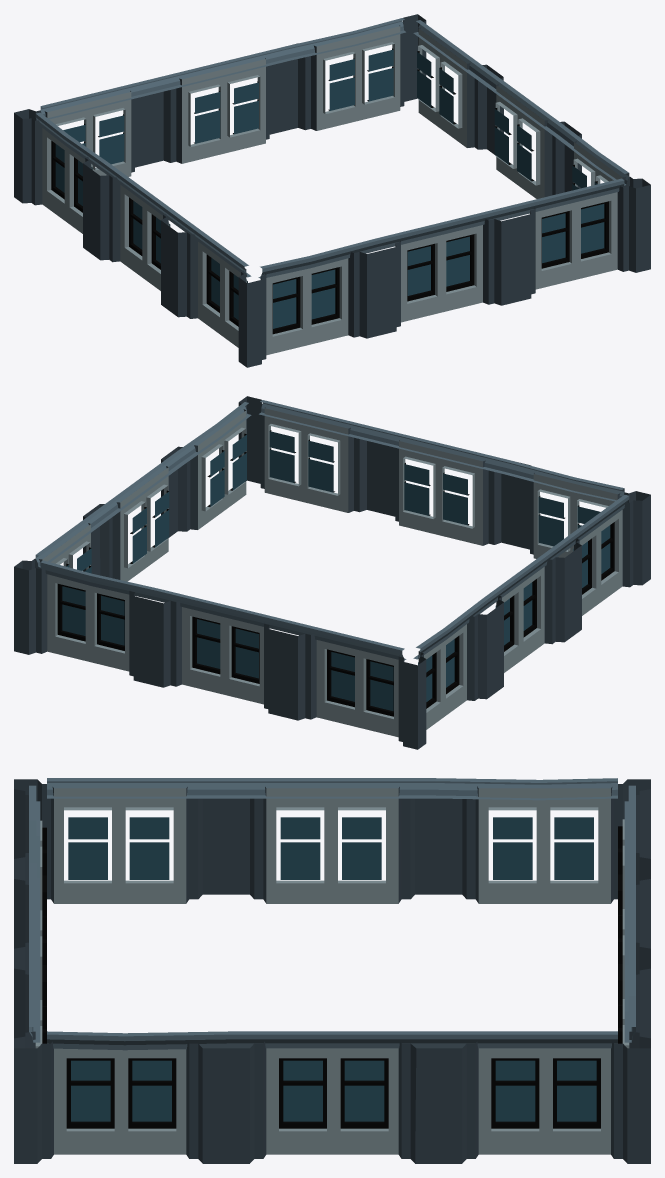
The model's file is Apt1_Floor.fbx.
The picture shows the model from 3 angles, top to bottom: view 1: azimuth 30°, elevation 25°; view 2: azimuth 150°, elevation 25°; view 3: azimuth 270°, elevation 25°; orthographic projection. The views are drawn at different scales.
Parts seen in each view (by area): view 1: Columns.001, Floor Main, Window, Border; view 2: Columns.001, Floor Main, Window, Border; view 3: Columns.001, Floor Main, Window, Border.
Part boxes in pixels (<box>): Columns.001: <box>14,14,650,367</box>; Floor Main: <box>42,26,622,355</box>; Window: <box>51,48,608,334</box>; Border: <box>35,18,629,278</box>; Columns.001: <box>14,396,650,749</box>; Floor Main: <box>42,408,622,737</box>; Window: <box>57,430,614,716</box>; Border: <box>35,400,629,660</box>; Columns.001: <box>14,779,650,1163</box>; Floor Main: <box>35,788,629,1154</box>; Window: <box>42,817,622,1128</box>; Border: <box>29,778,635,1050</box>.
Size of the model in its own units: 1512 by 322 by 1512.
